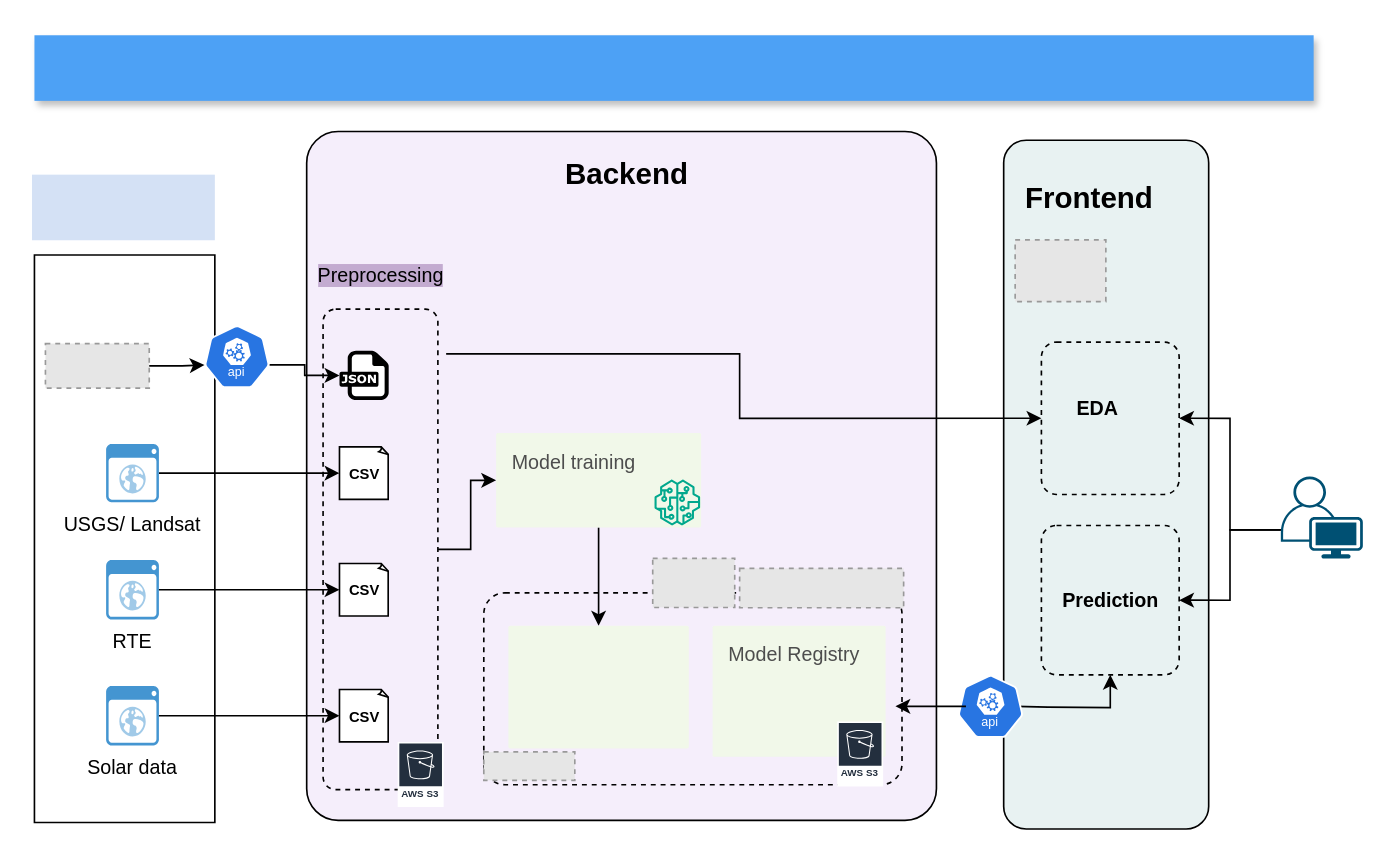
This 1391x858 diagram has some shape labels left out. Grey dashed boxes stand in for pictures. The shapes that lost their labels are listed below. From the top down, each one's centre as x and y in pixels, then its label:
(x=675, y=70): Application Architecture: Renewable Energies Efficiency Prediction
(x=122, y=206): Data sources
(x=1321, y=517): Client
(x=598, y=686): Model tracking
